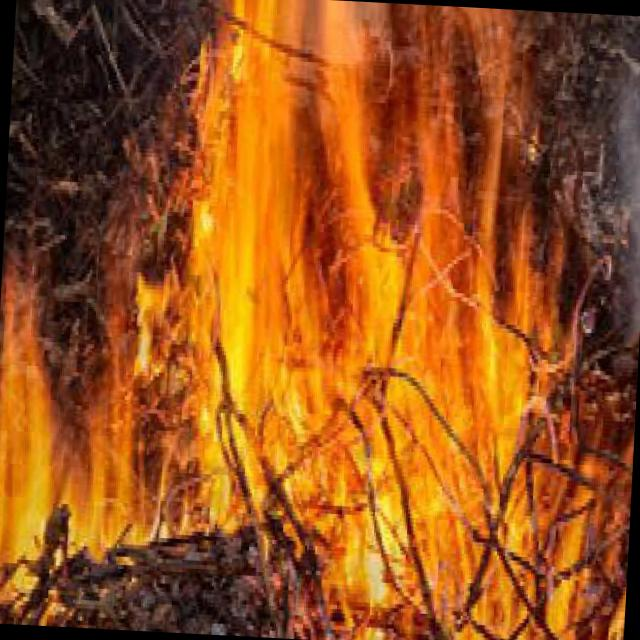fire: (0, 0, 593, 640)
smoke: (590, 50, 640, 347)
